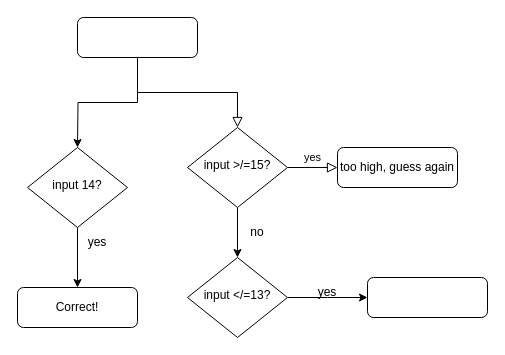
The diagram is 505 pixels wide and 355 high, and some of its shapes have lost their labels. The shapes that lost their labels are listed below. From the top down, each one's centre as x and y in pixels, then its label:
point 137,37: guess #
point 427,297: too low, guess again
